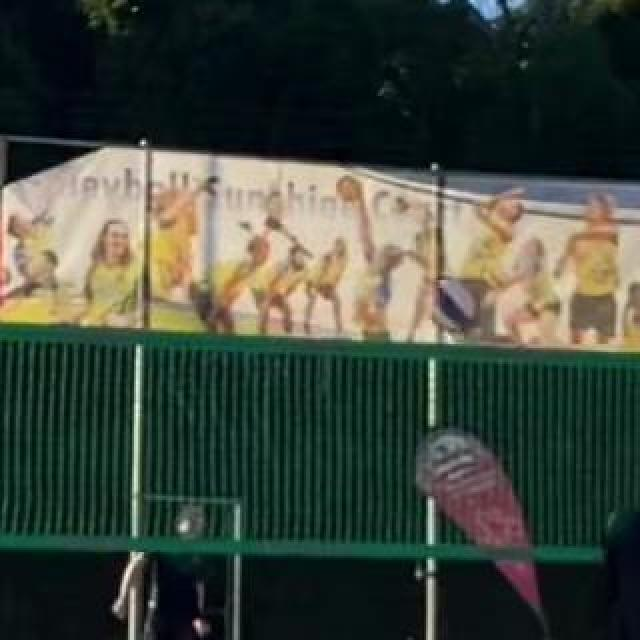volleyball: (429, 278, 481, 328)
